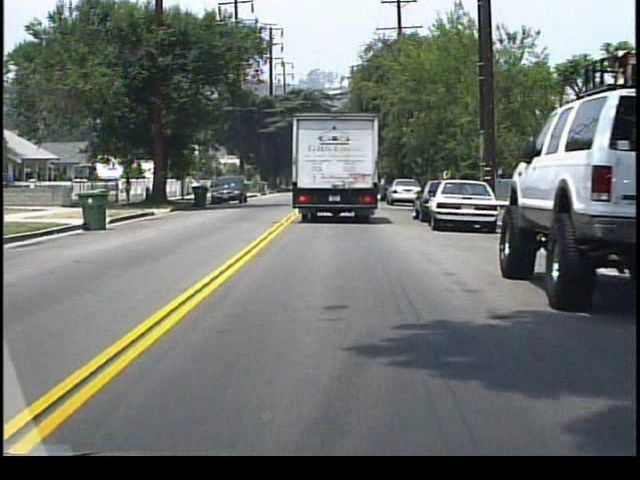person: (124, 174, 135, 205)
